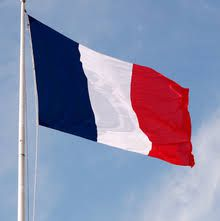French Flag: (27, 15, 191, 168)
